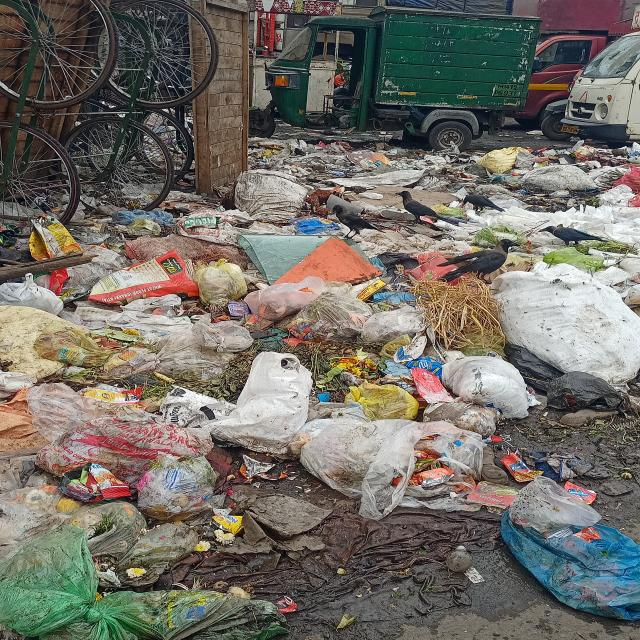garbage: (4, 209, 640, 640), (252, 136, 640, 212)
